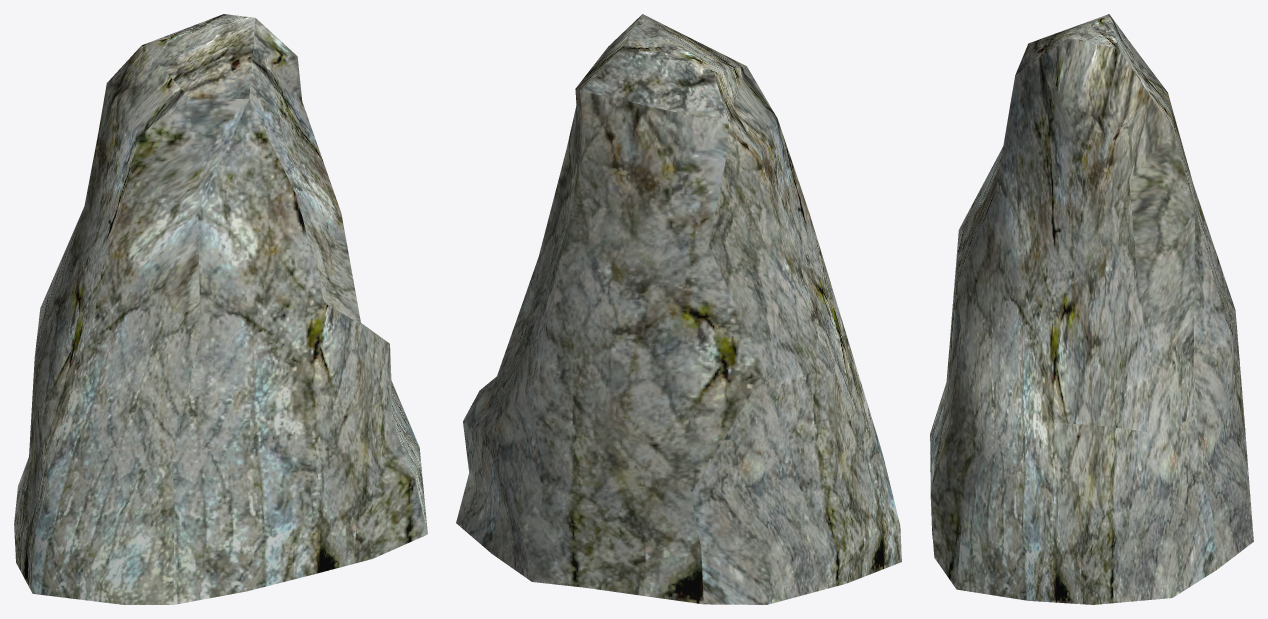
Rendered from general_obj_bigstone09.fbx.
3 renders of one model, left to right at view 1: azimuth 30°, elevation 25°; view 2: azimuth 150°, elevation 25°; view 3: azimuth 270°, elevation 25°, orthographic.
Visible parts, largest first — view 1: Sphere01fs01; view 2: Sphere01fs01; view 3: Sphere01fs01.
Part boxes in pixels (x1,y1,x2,y2): Sphere01fs01: [14, 14, 427, 604]; Sphere01fs01: [456, 14, 901, 604]; Sphere01fs01: [930, 14, 1253, 604].
Bounding box in the file's own units: 15.79 × 19.25 × 11.38.
